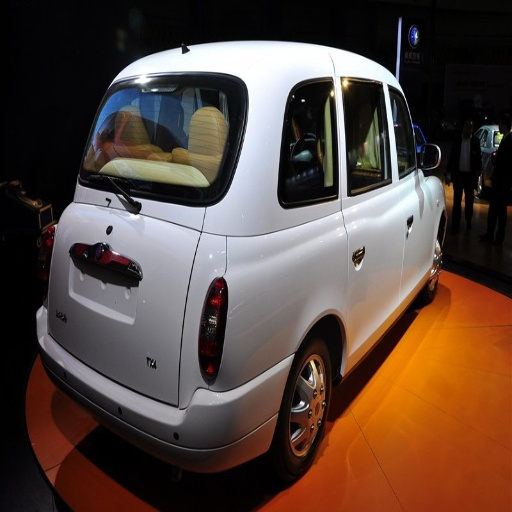back_bumper: (42, 346, 289, 472)
back_glass: (82, 82, 234, 204)
back_right_door: (350, 258, 395, 335)
trunk: (55, 180, 378, 405)
